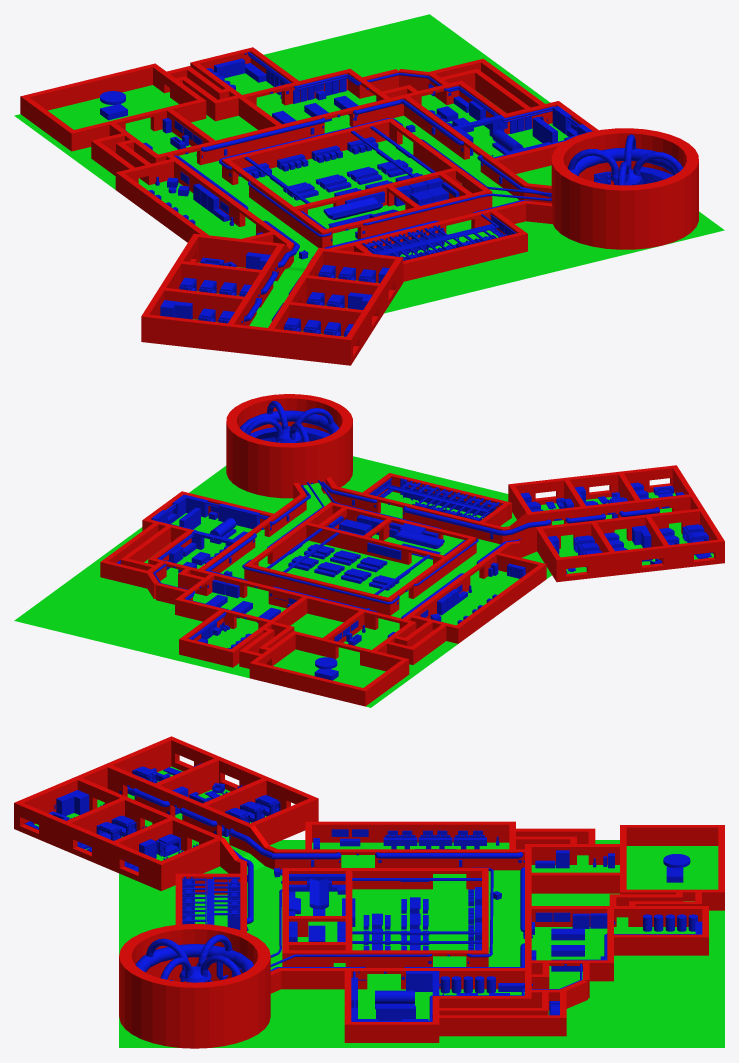
Rendered from blockout.fbx.
3 views of the same model, one above another, from view 1: azimuth 30°, elevation 25°; view 2: azimuth 150°, elevation 25°; view 3: azimuth 270°, elevation 25° (orthographic). The views are drawn at different scales.
Visible parts, largest first — view 1: suelo.002, pared.067, pared.058, pared.010, tuberia.016, pared.003, pared.020, pared.001, pared.033, pared.009, pared.060, pared.023 (+39 smaller); view 2: suelo.002, pared.067, pared.061, tuberia.016, pared.060, pared.054, pared.055, pared.010, pared.001, pared.066, pared.033, pared.002 (+29 smaller); view 3: suelo.002, pared.067, pared.060, tuberia.016, pared.054, pared.009, pared.065, pared.023, pared.055, pared.058, pared.018, pared.061 (+40 smaller).
Boxes of the visible parts, left/top/right/bottom form: suelo.002: left=14, top=14, right=724, bottom=313; pared.067: left=551, top=128, right=698, bottom=249; pared.058: left=147, top=314, right=352, bottom=365; pared.010: left=152, top=95, right=403, bottom=165; tuberia.016: left=174, top=99, right=551, bottom=321; pared.003: left=319, top=189, right=492, bottom=248; pared.020: left=403, top=233, right=522, bottom=281; pared.001: left=222, top=118, right=394, bottom=179; pared.033: left=26, top=65, right=152, bottom=110; pared.009: left=401, top=94, right=532, bottom=201; pared.060: left=346, top=256, right=403, bottom=362; pared.023: left=119, top=173, right=208, bottom=242; suelo.002: left=14, top=456, right=551, bottom=707; pared.067: left=226, top=394, right=352, bottom=498; pared.061: left=555, top=539, right=724, bottom=582; tuberia.016: left=205, top=481, right=659, bottom=618; pared.060: left=508, top=466, right=672, bottom=504; pared.054: left=519, top=509, right=699, bottom=557; pared.055: left=495, top=494, right=690, bottom=544; pared.010: left=200, top=570, right=416, bottom=631; pared.001: left=244, top=563, right=392, bottom=615; pared.066: left=330, top=485, right=501, bottom=542; pared.033: left=254, top=662, right=362, bottom=705; pared.002: left=301, top=521, right=449, bottom=573; suelo.002: left=119, top=840, right=724, bottom=1047; pared.067: left=119, top=923, right=270, bottom=1048; pared.060: left=18, top=803, right=165, bottom=890; tuberia.016: left=132, top=788, right=524, bottom=979; pared.054: left=107, top=765, right=269, bottom=865; pared.009: left=272, top=968, right=531, bottom=989; pared.065: left=279, top=849, right=524, bottom=870; pared.023: left=312, top=821, right=509, bottom=842; pared.055: left=77, top=778, right=246, bottom=873; pared.058: left=14, top=738, right=171, bottom=830; pared.018: left=439, top=1015, right=559, bottom=1036; pared.061: left=167, top=736, right=318, bottom=821.
Size of the model in its own units: 9884 by 1175 by 10601.
